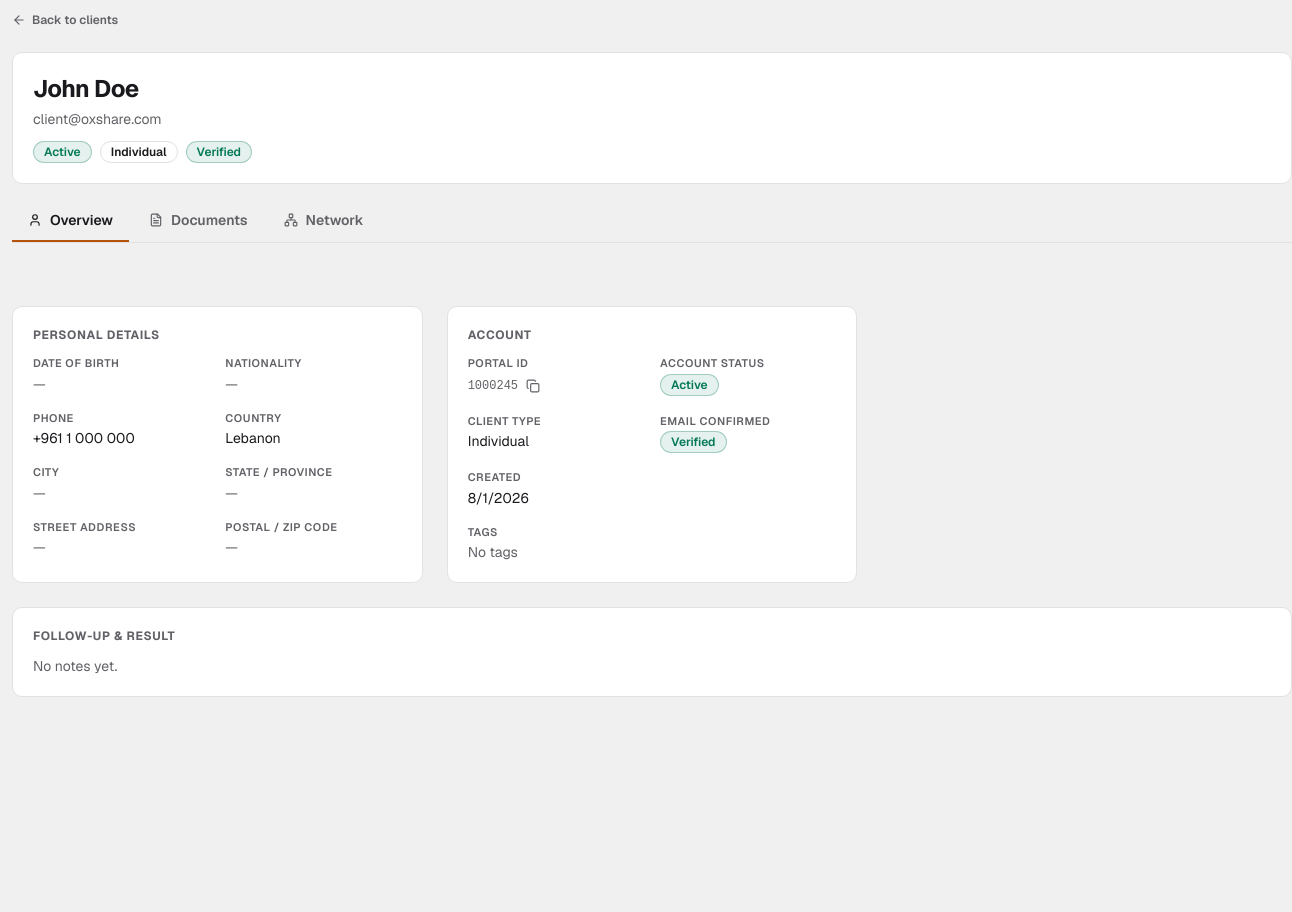
Test: the other permission-gated sections › hides referrals without ib.view
Expected: the heading "John Doe" is shown, [33,73,139,104]
Click the tab "Network". click: (324, 221)
box: [268,200,380,242]
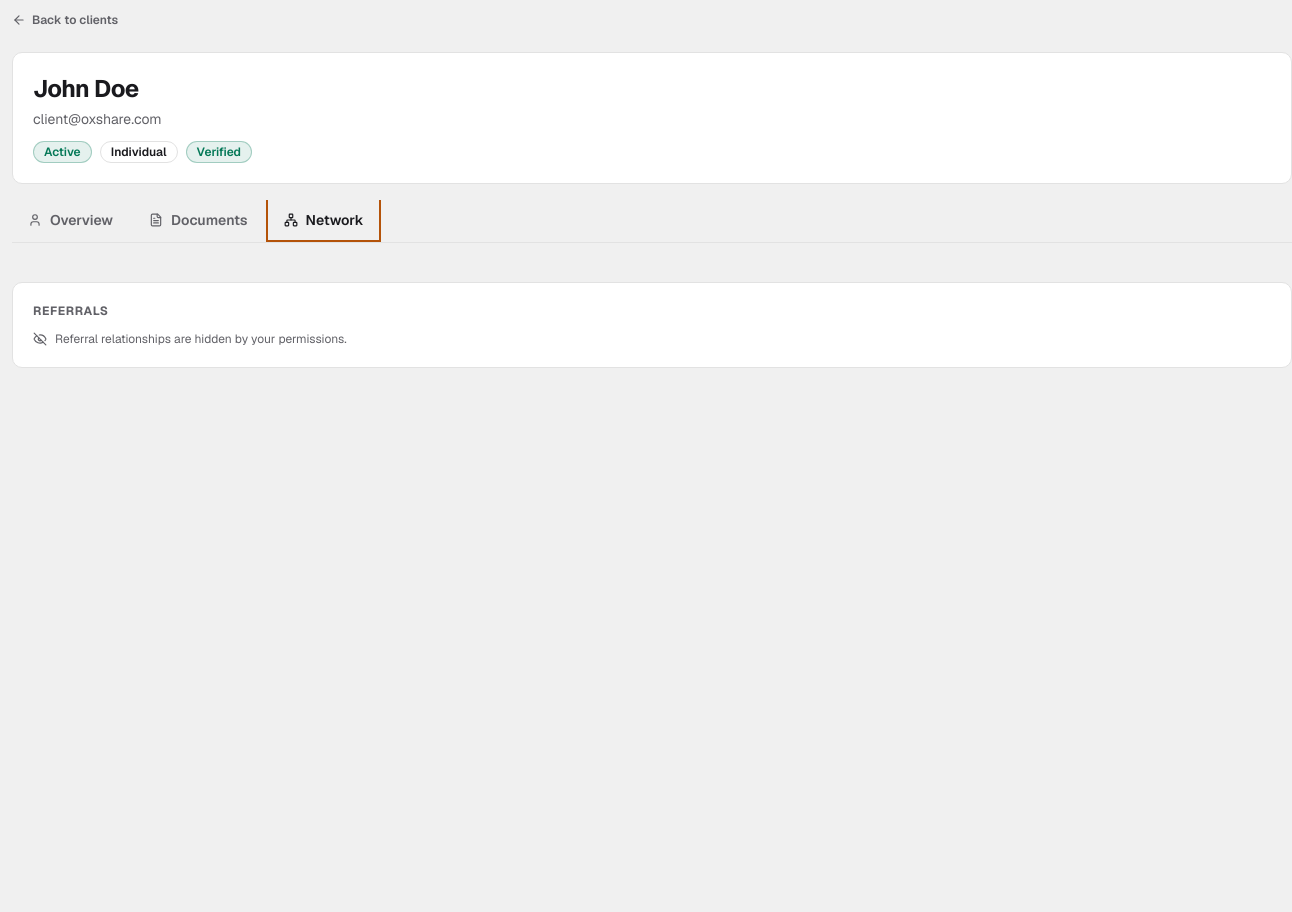
Expected: the text "Referral relationships are hidden by your permissions." is shown, [33,331,347,347]
